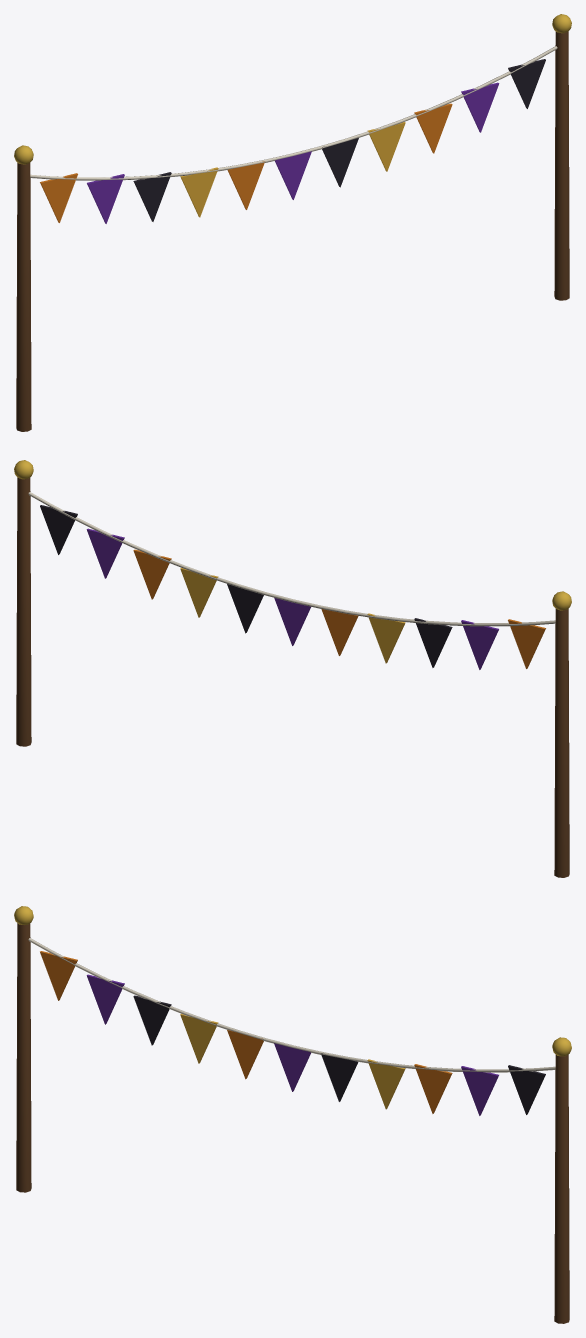
The model's file is bunting_spooky.glb.
3 views of the same model, one above another, from view 1: azimuth 30°, elevation 25°; view 2: azimuth 150°, elevation 25°; view 3: azimuth 330°, elevation 25° (orthographic).
Parts seen in each view (by area): view 1: bunting_spooky_main; view 2: bunting_spooky_main; view 3: bunting_spooky_main.
Boxes of the visible parts, x1,y1,x2,y2 form: bunting_spooky_main: (14,14,571,431); bunting_spooky_main: (14,460,571,877); bunting_spooky_main: (14,906,571,1323).
Bounding box in the file's own units: 2.85 × 1.38 × 0.09.
